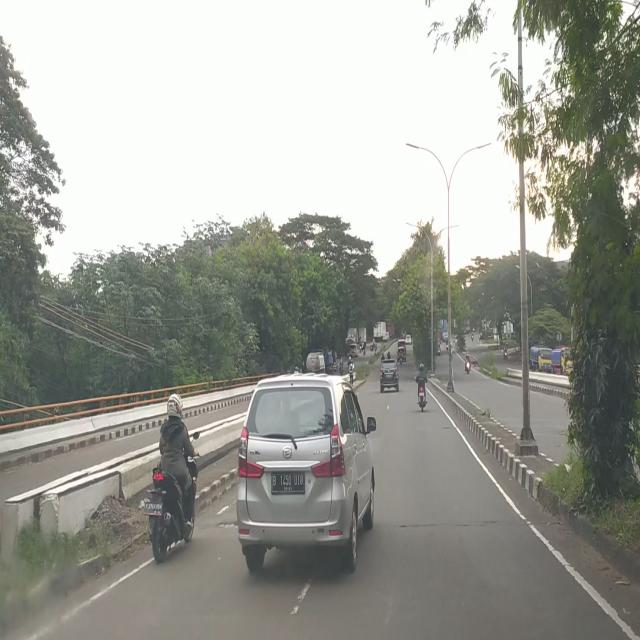Sewer Cover: (375, 515, 533, 532)
